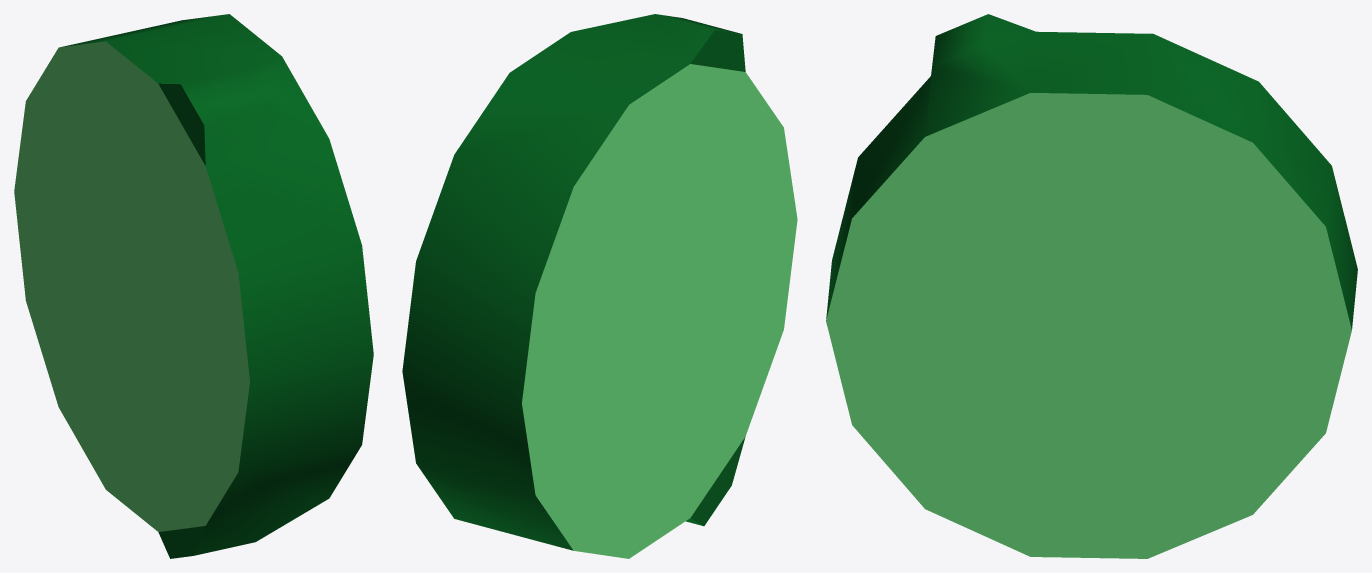
Rendered from mesh_PickleSlice_Stage10.fbx.
3 views of the same model, side by side, from view 1: azimuth 30°, elevation 25°; view 2: azimuth 150°, elevation 25°; view 3: azimuth 270°, elevation 25° (orthographic). The views are drawn at different scales.
Visible parts, largest first — view 1: mesh_PickleSlice_Stage10; view 2: mesh_PickleSlice_Stage10; view 3: mesh_PickleSlice_Stage10.
Boxes of the visible parts, x1,y1,x2,y2 form: mesh_PickleSlice_Stage10: (14,14,373,558); mesh_PickleSlice_Stage10: (402,14,797,558); mesh_PickleSlice_Stage10: (826,14,1357,558).
Bounding box in the file's own units: 0.0105 × 0.0349 × 0.0337.
